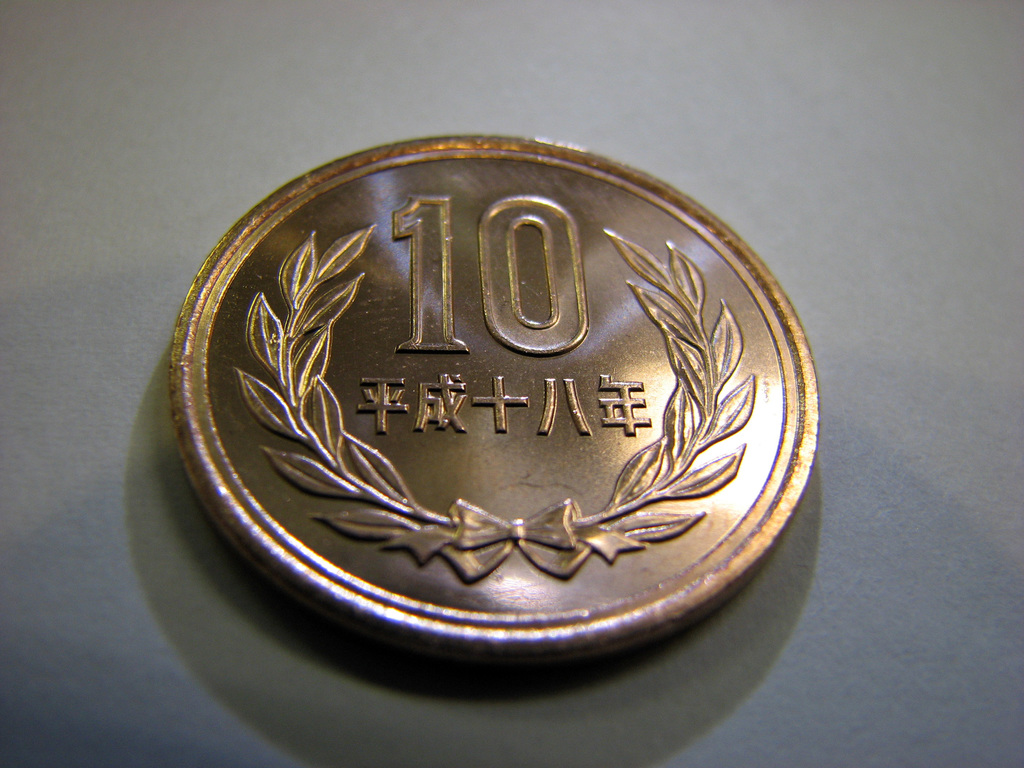Coin: (168, 134, 820, 668)
